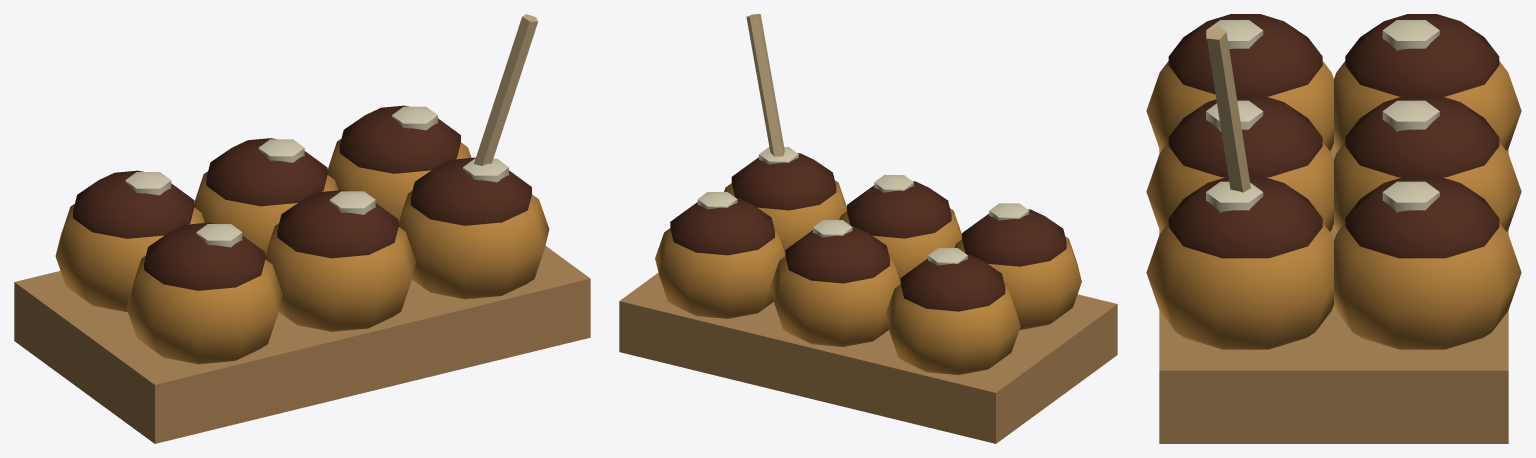
The model's file is item_takoyaki.glb.
3 renders of one model, left to right at view 1: azimuth 30°, elevation 25°; view 2: azimuth 150°, elevation 25°; view 3: azimuth 270°, elevation 25°, orthographic. The views are drawn at different scales.
Visible parts, largest first — view 1: item_takoyaki; view 2: item_takoyaki; view 3: item_takoyaki.
Boxes of the visible parts, <box> form: item_takoyaki: <box>14,14,590,443</box>; item_takoyaki: <box>619,14,1117,443</box>; item_takoyaki: <box>1146,14,1521,443</box>.
Bounding box in the file's own units: 0.17 × 0.1172 × 0.102.
